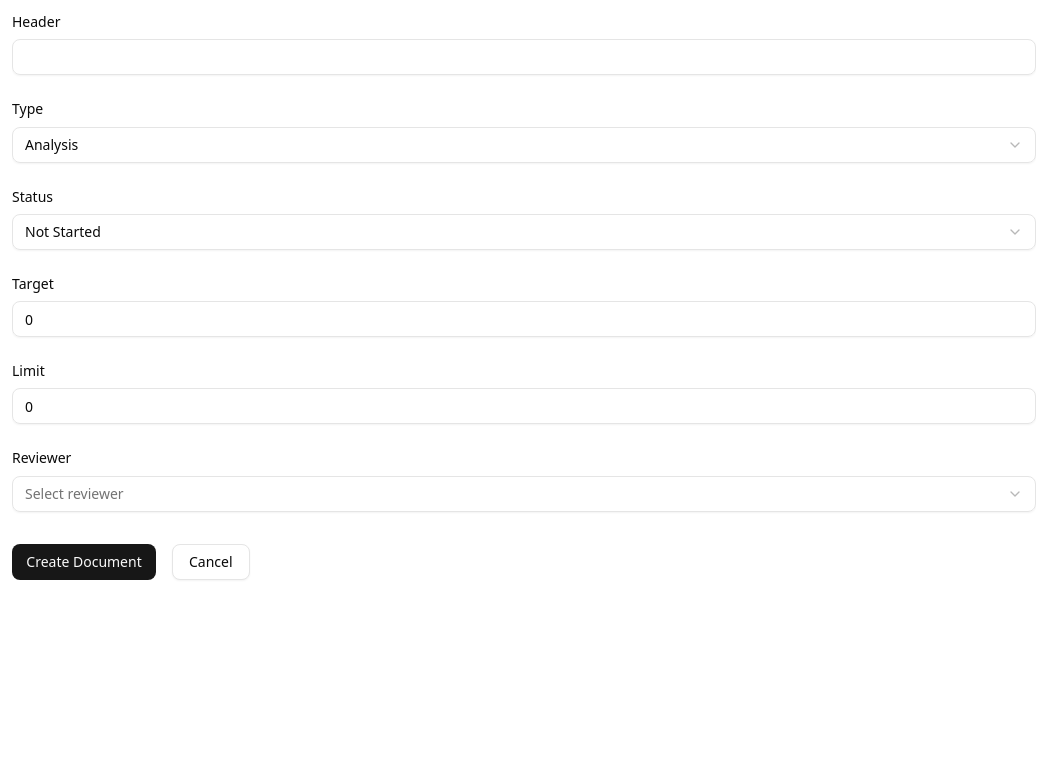
Test: DocumentForm › validates fields and shows errors › target is required
In the field labelled "Header": (524, 57) x1=12 y1=39 x2=1036 y2=75, type "Valid Header"
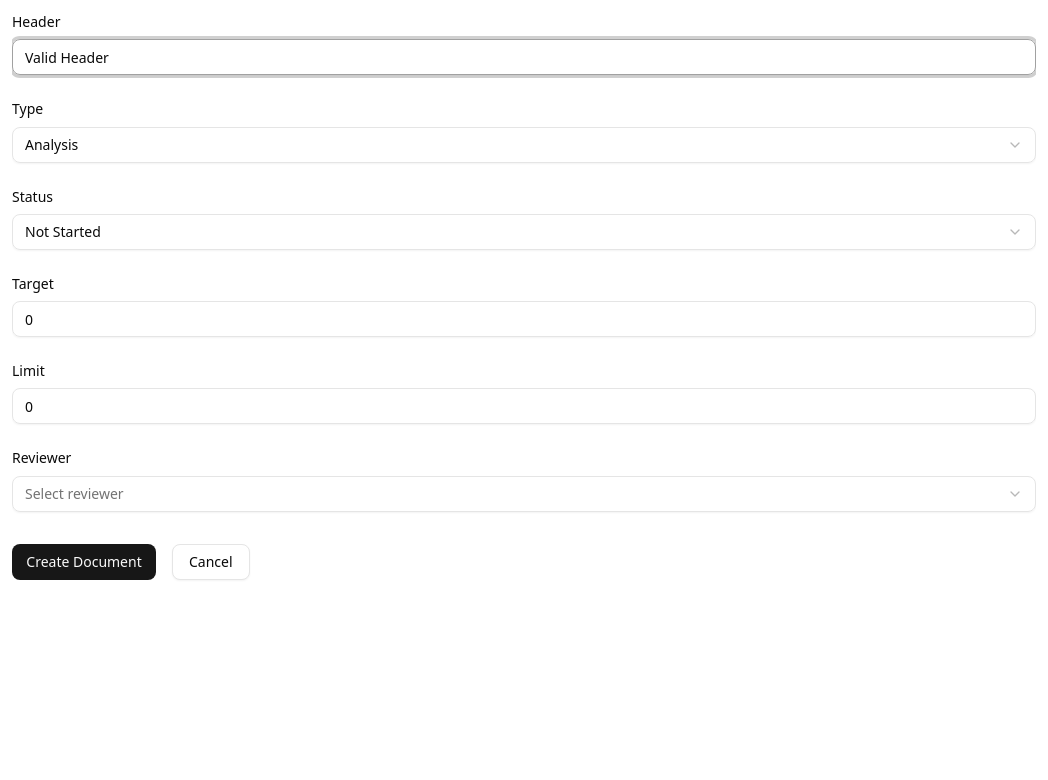
Clear the number field labelled "Target": (524, 319) x1=12 y1=301 x2=1036 y2=337
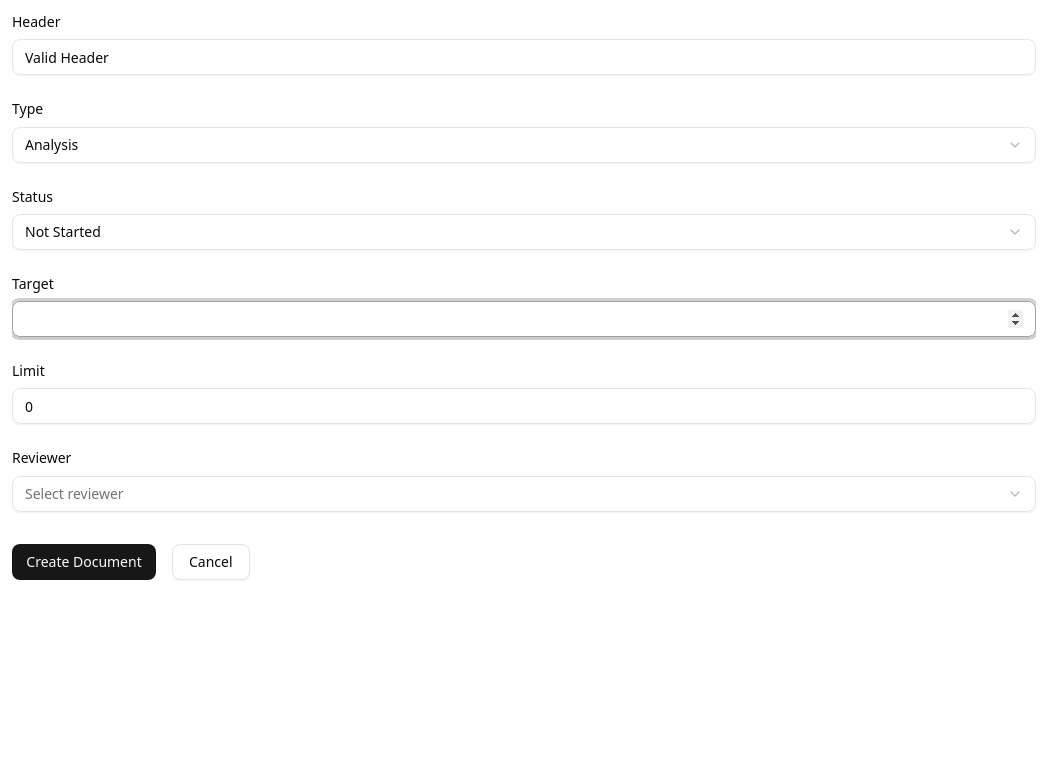
Click the button with aria-label "submit": (84, 562) x1=12 y1=544 x2=156 y2=580
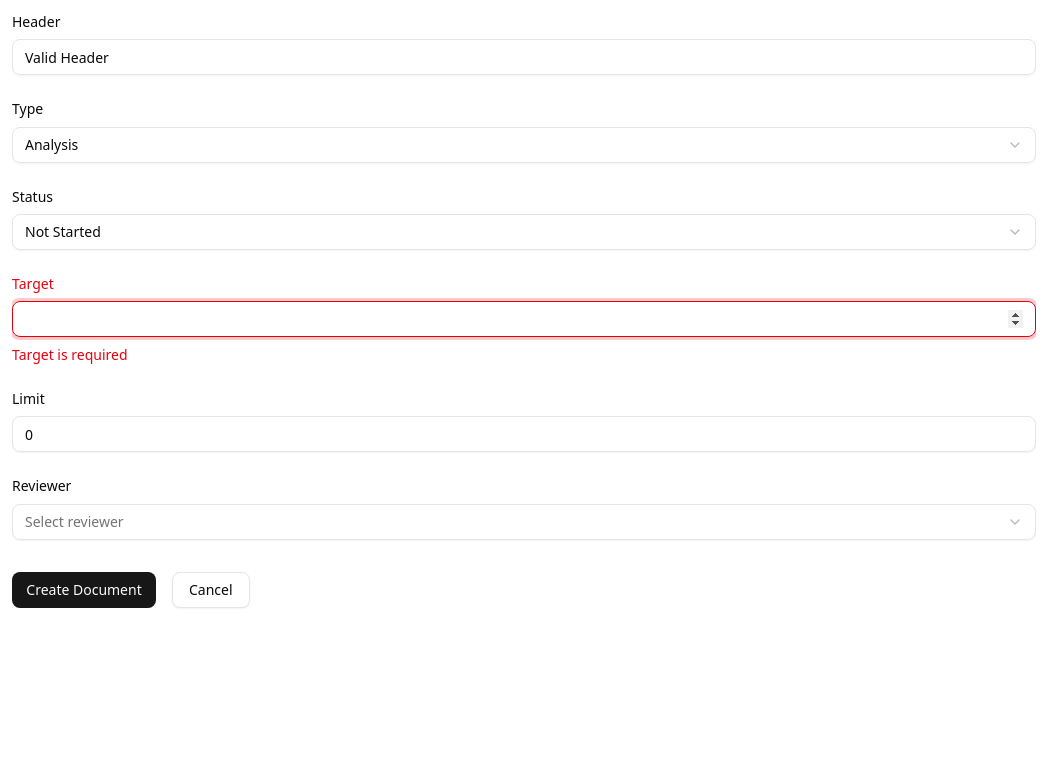
Expected: the text "Target is required" is shown, x1=12 y1=345 x2=128 y2=364
